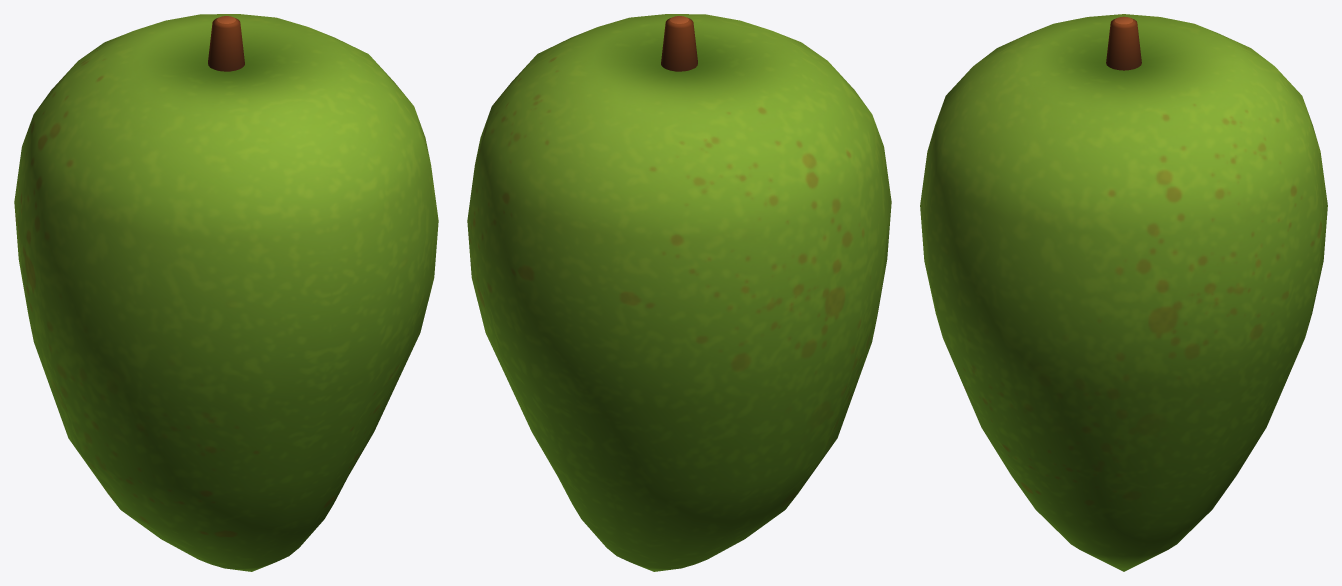
Rendered from Mango_Green.fbx.
3 views of the same model, side by side, from view 1: azimuth 30°, elevation 25°; view 2: azimuth 150°, elevation 25°; view 3: azimuth 270°, elevation 25° (orthographic). The views are drawn at different scales.
Visible parts, largest first — view 1: Mango_Green; view 2: Mango_Green; view 3: Mango_Green.
Part boxes in pixels (x1,y1,x2,y2): Mango_Green: (14, 14, 438, 571); Mango_Green: (467, 14, 891, 571); Mango_Green: (920, 14, 1327, 571).
Bounding box in the file's own units: 30.26 × 43.69 × 29.94.
